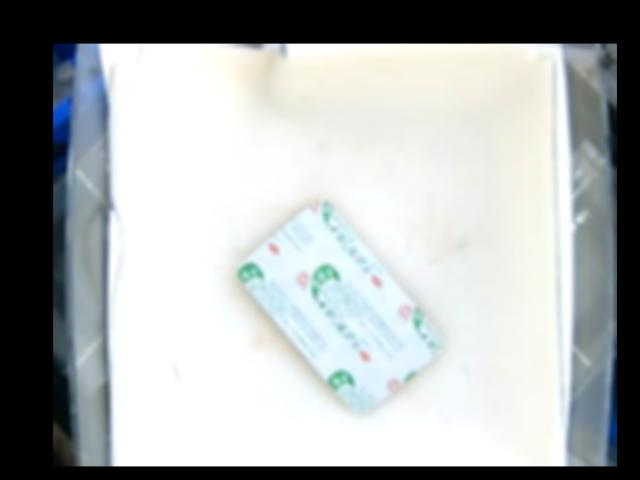Medicine: (238, 199, 444, 415)
